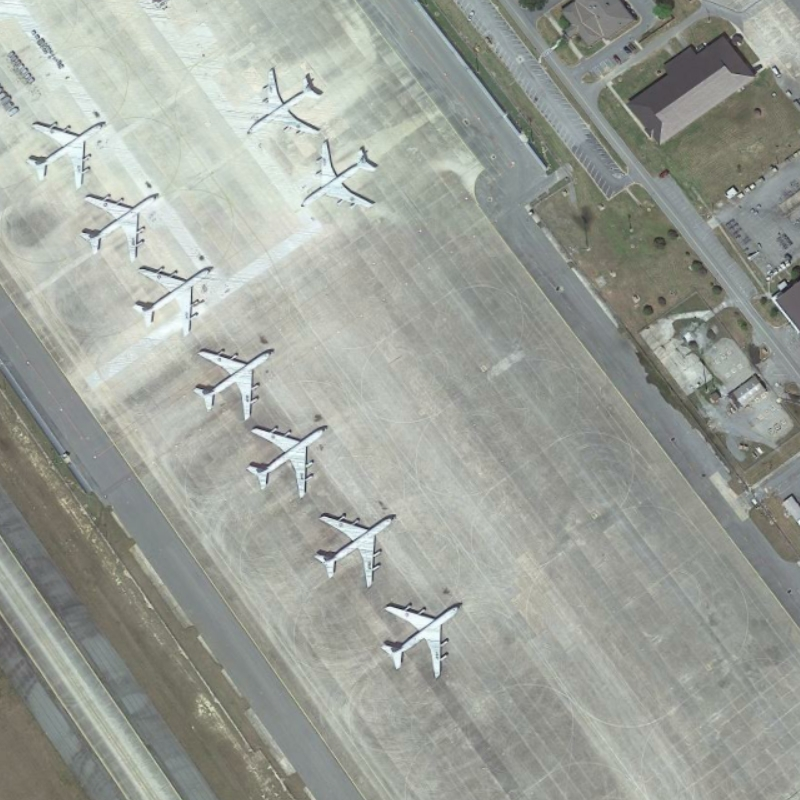A11: (312, 509, 399, 593), (379, 600, 465, 682), (245, 422, 332, 500), (193, 346, 279, 423), (131, 262, 216, 339), (22, 116, 109, 191), (295, 137, 380, 212), (244, 64, 326, 138), (81, 191, 160, 263)
